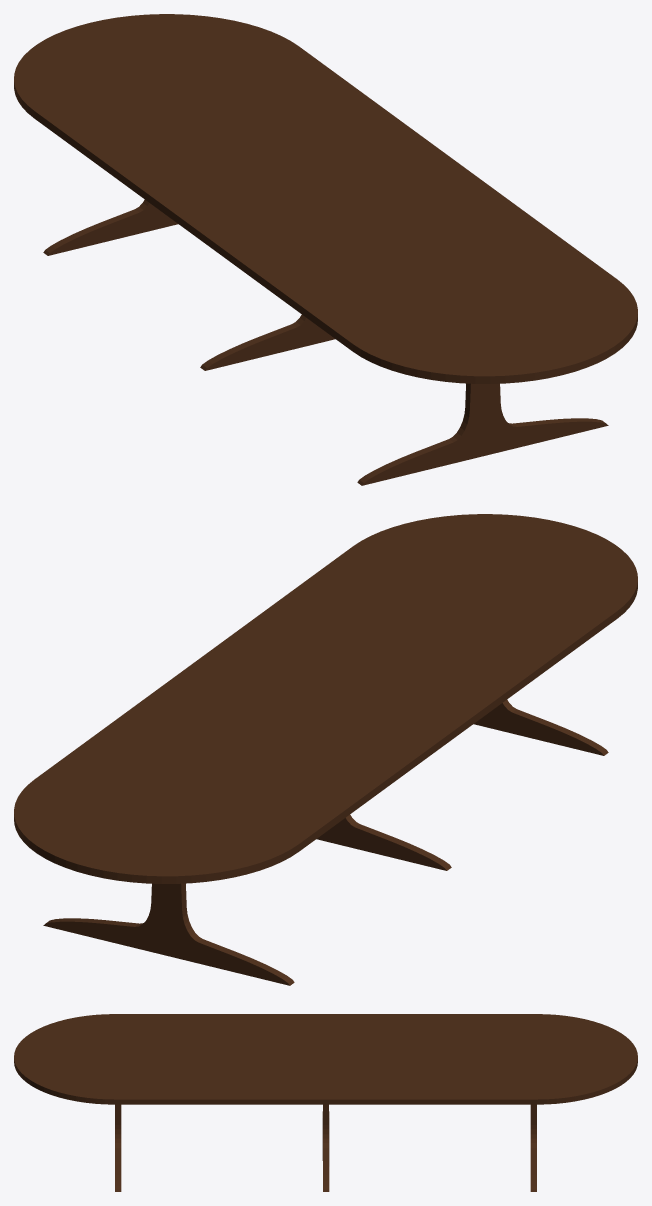
File: conf_table.glb
3 renders of one model, top to bottom at view 1: azimuth 30°, elevation 25°; view 2: azimuth 150°, elevation 25°; view 3: azimuth 270°, elevation 25°, orthographic. The views are drawn at different scales.
Visible parts, largest first — view 1: Cube.002; view 2: Cube.002; view 3: Cube.002.
Boxes of the visible parts, box(x1,y1,x2,y2) form: Cube.002: box(14, 14, 637, 485); Cube.002: box(14, 514, 637, 985); Cube.002: box(14, 1014, 637, 1191).
Bounding box in the file's own units: 3.22 × 1.67 × 9.93.
Materials: 4 (4 with a texture image).
